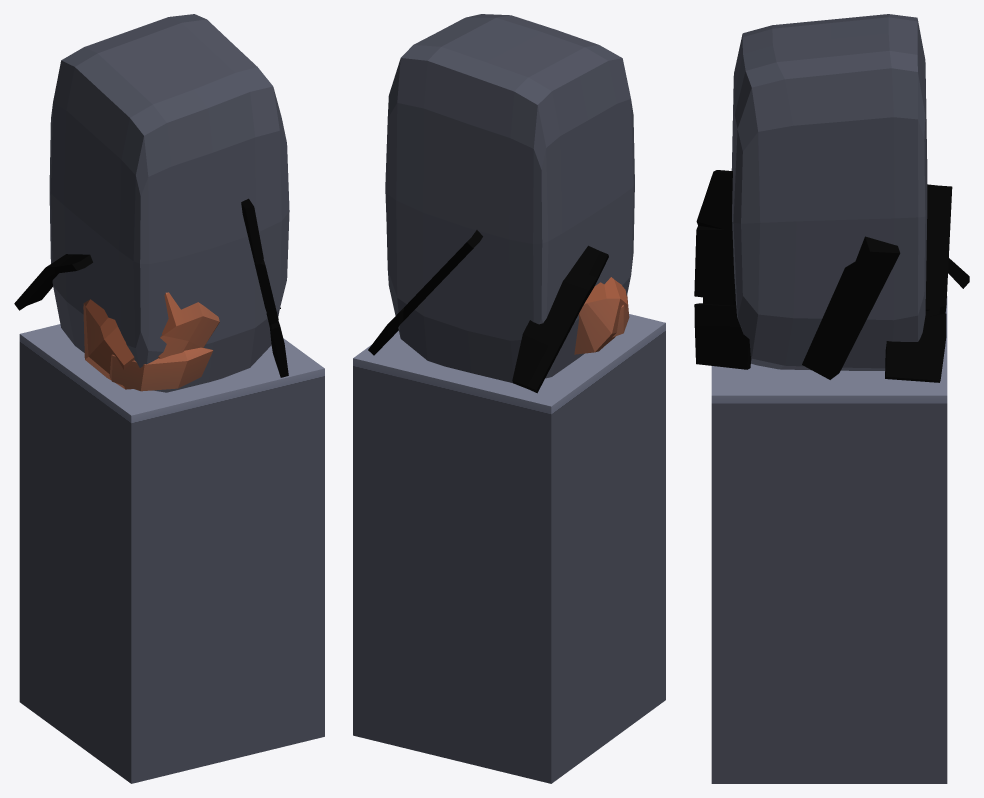
File: debris_wall2.glb
The picture shows the model from 3 angles, left to right: view 1: azimuth 30°, elevation 25°; view 2: azimuth 150°, elevation 25°; view 3: azimuth 270°, elevation 25°; orthographic projection. The views are drawn at different scales.
Parts seen in each view (by area): view 1: wall; view 2: wall; view 3: wall.
Part boxes in pixels (<box>): wall: <box>14,14,324,783</box>; wall: <box>353,14,665,783</box>; wall: <box>694,14,969,783</box>.
Bounding box in the file's own units: 1.07 × 3.29 × 1.17.
1 material, 1 textured.
